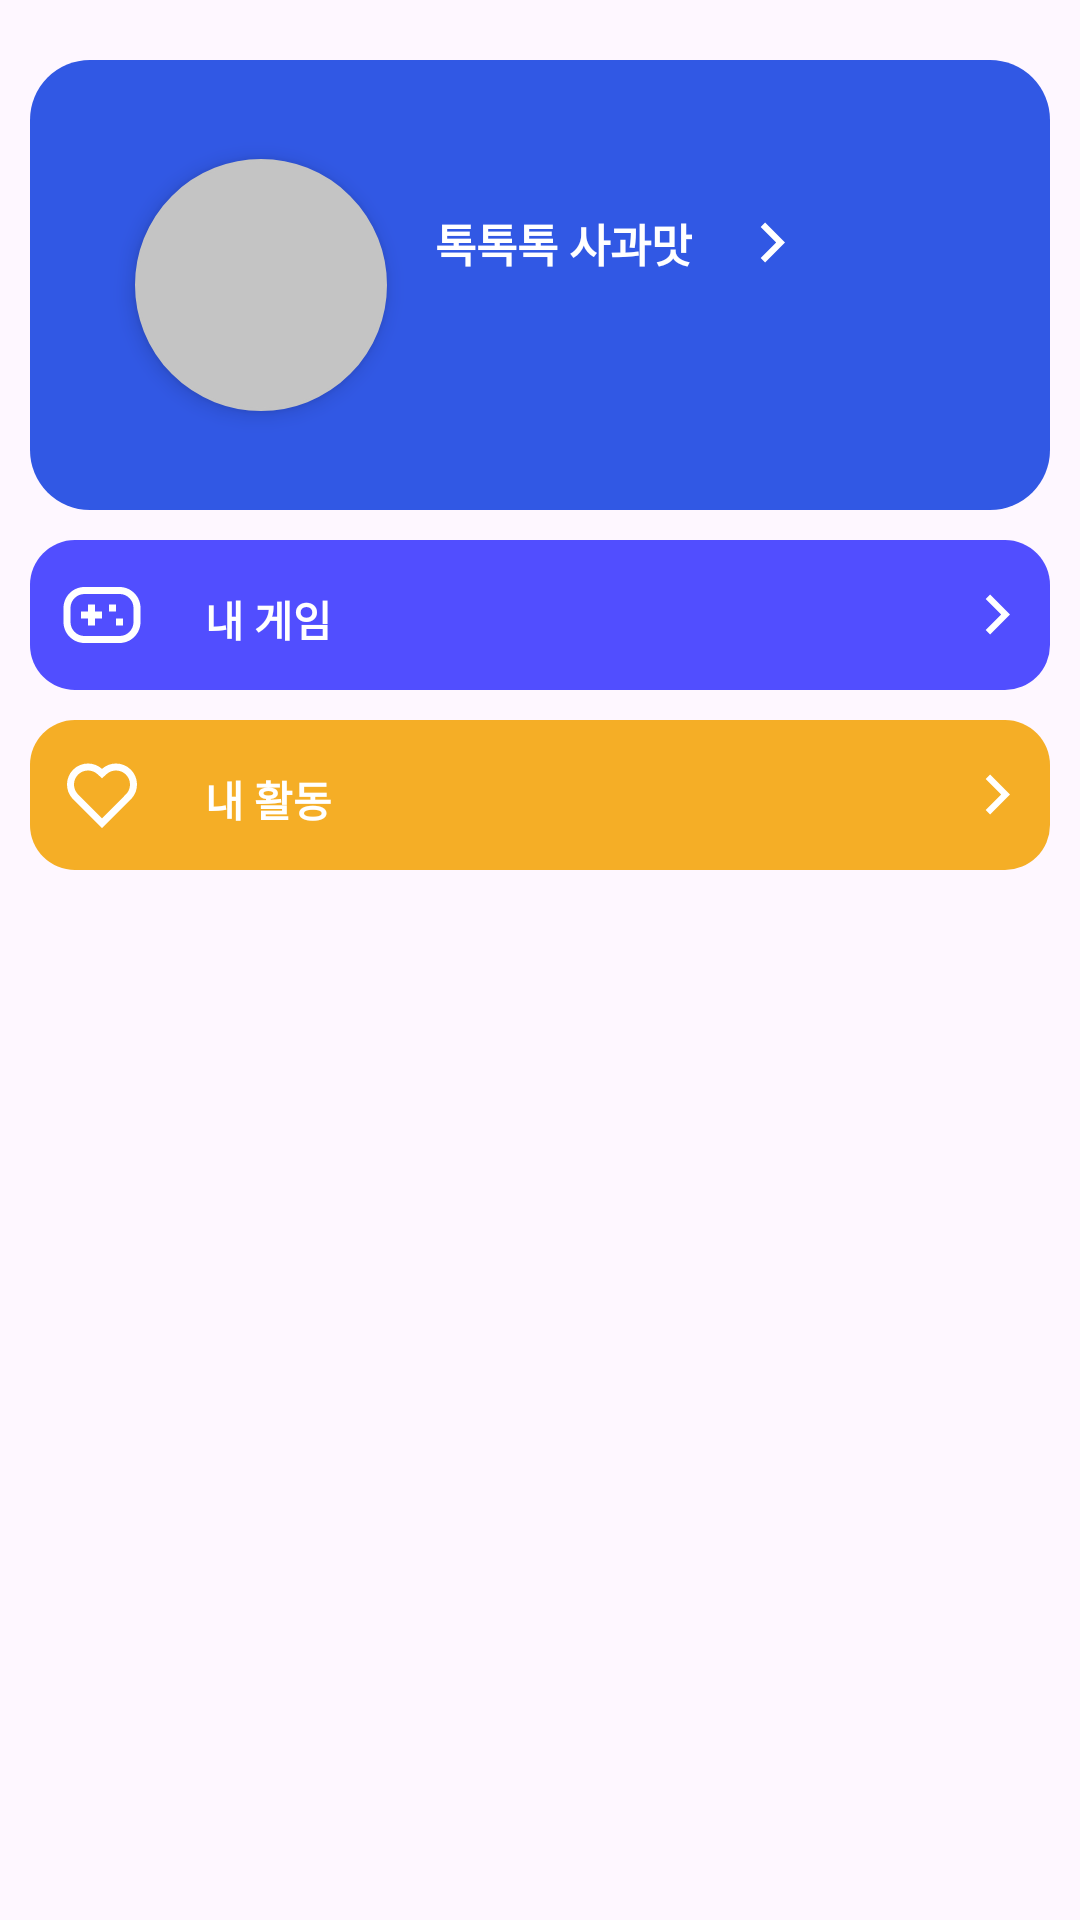

Screen size 1080*1920. Icon name, then its center in pixels as [x,y]:
arrowright: [773,242], [998,614], [998,794]
gamepad: [102,615]
heart: [102,795]
